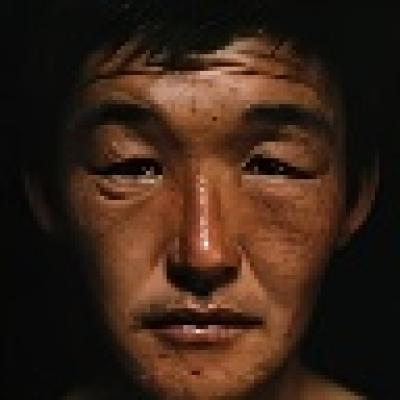sad: (58, 33, 341, 396)
